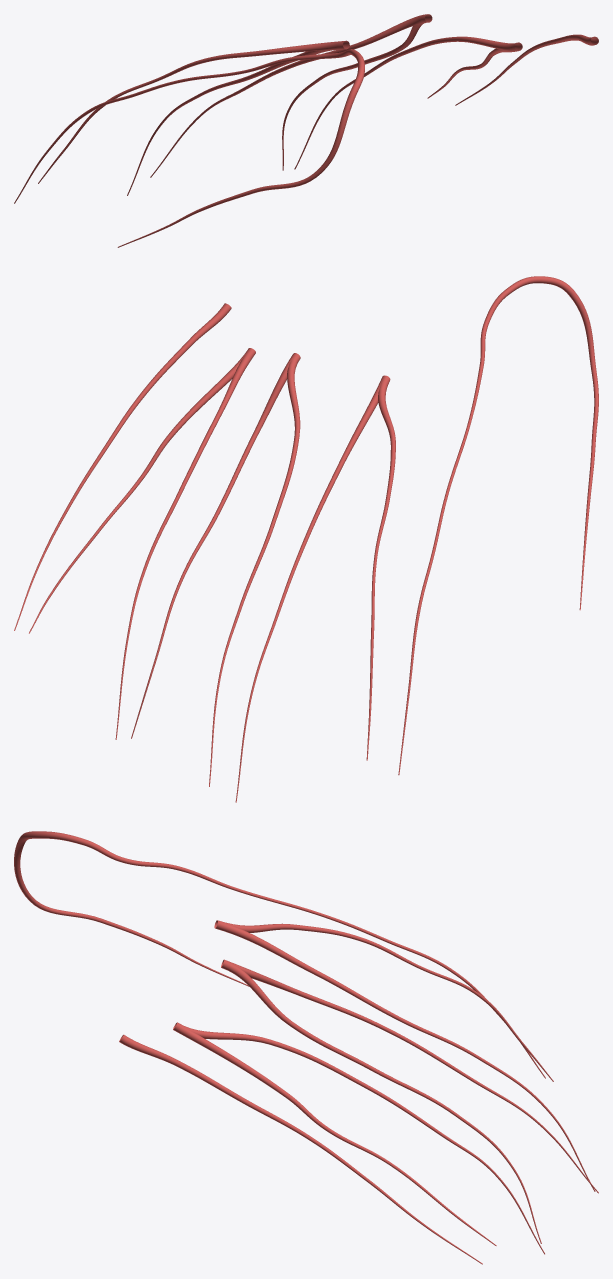
3 renders of one model, top to bottom at view 1: azimuth 30°, elevation 25°; view 2: azimuth 150°, elevation 25°; view 3: azimuth 270°, elevation 25°, orthographic. The views are drawn at different scales.
Visible parts, largest first — view 1: 右侧指背动脉; view 2: 右侧指背动脉; view 3: 右侧指背动脉.
Boxes of the visible parts, box(x1,y1,x2,y2) form: 右侧指背动脉: box(14, 14, 598, 247); 右侧指背动脉: box(14, 276, 598, 802); 右侧指背动脉: box(14, 831, 598, 1264).
Bounding box in the file's own units: 0.1516 × 0.1066 × 0.1636.
